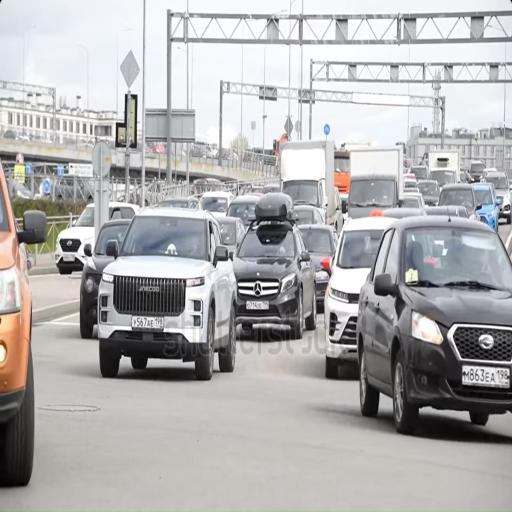License plates: (462, 366, 510, 388), (132, 316, 163, 330), (247, 301, 268, 310), (63, 254, 75, 262)
